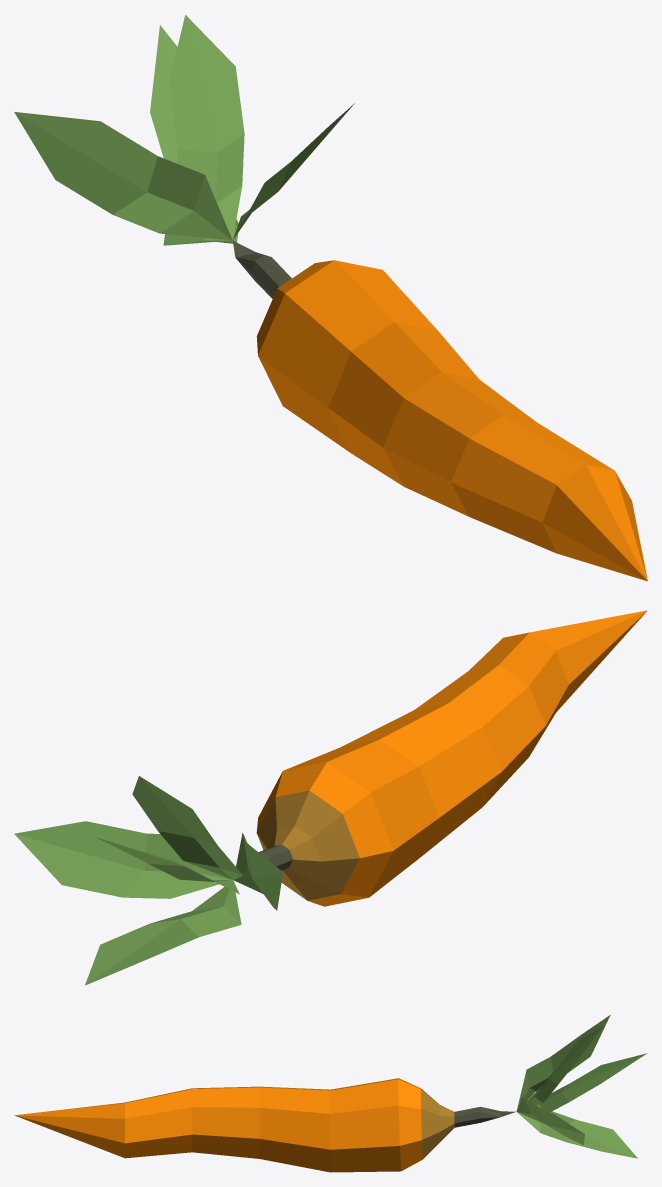
The model's file is Carrot.fbx.
The picture shows the model from 3 angles, top to bottom: view 1: azimuth 30°, elevation 25°; view 2: azimuth 150°, elevation 25°; view 3: azimuth 270°, elevation 25°; orthographic projection. The views are drawn at different scales.
Visible parts, largest first — view 1: Carrot; view 2: Carrot; view 3: Carrot.
Part boxes in pixels (x1,y1,x2,y2): Carrot: [14, 15, 647, 581]; Carrot: [14, 610, 647, 985]; Carrot: [14, 1015, 647, 1172].
Size of the model in its own units: 7.68 by 6.13 by 22.91.
